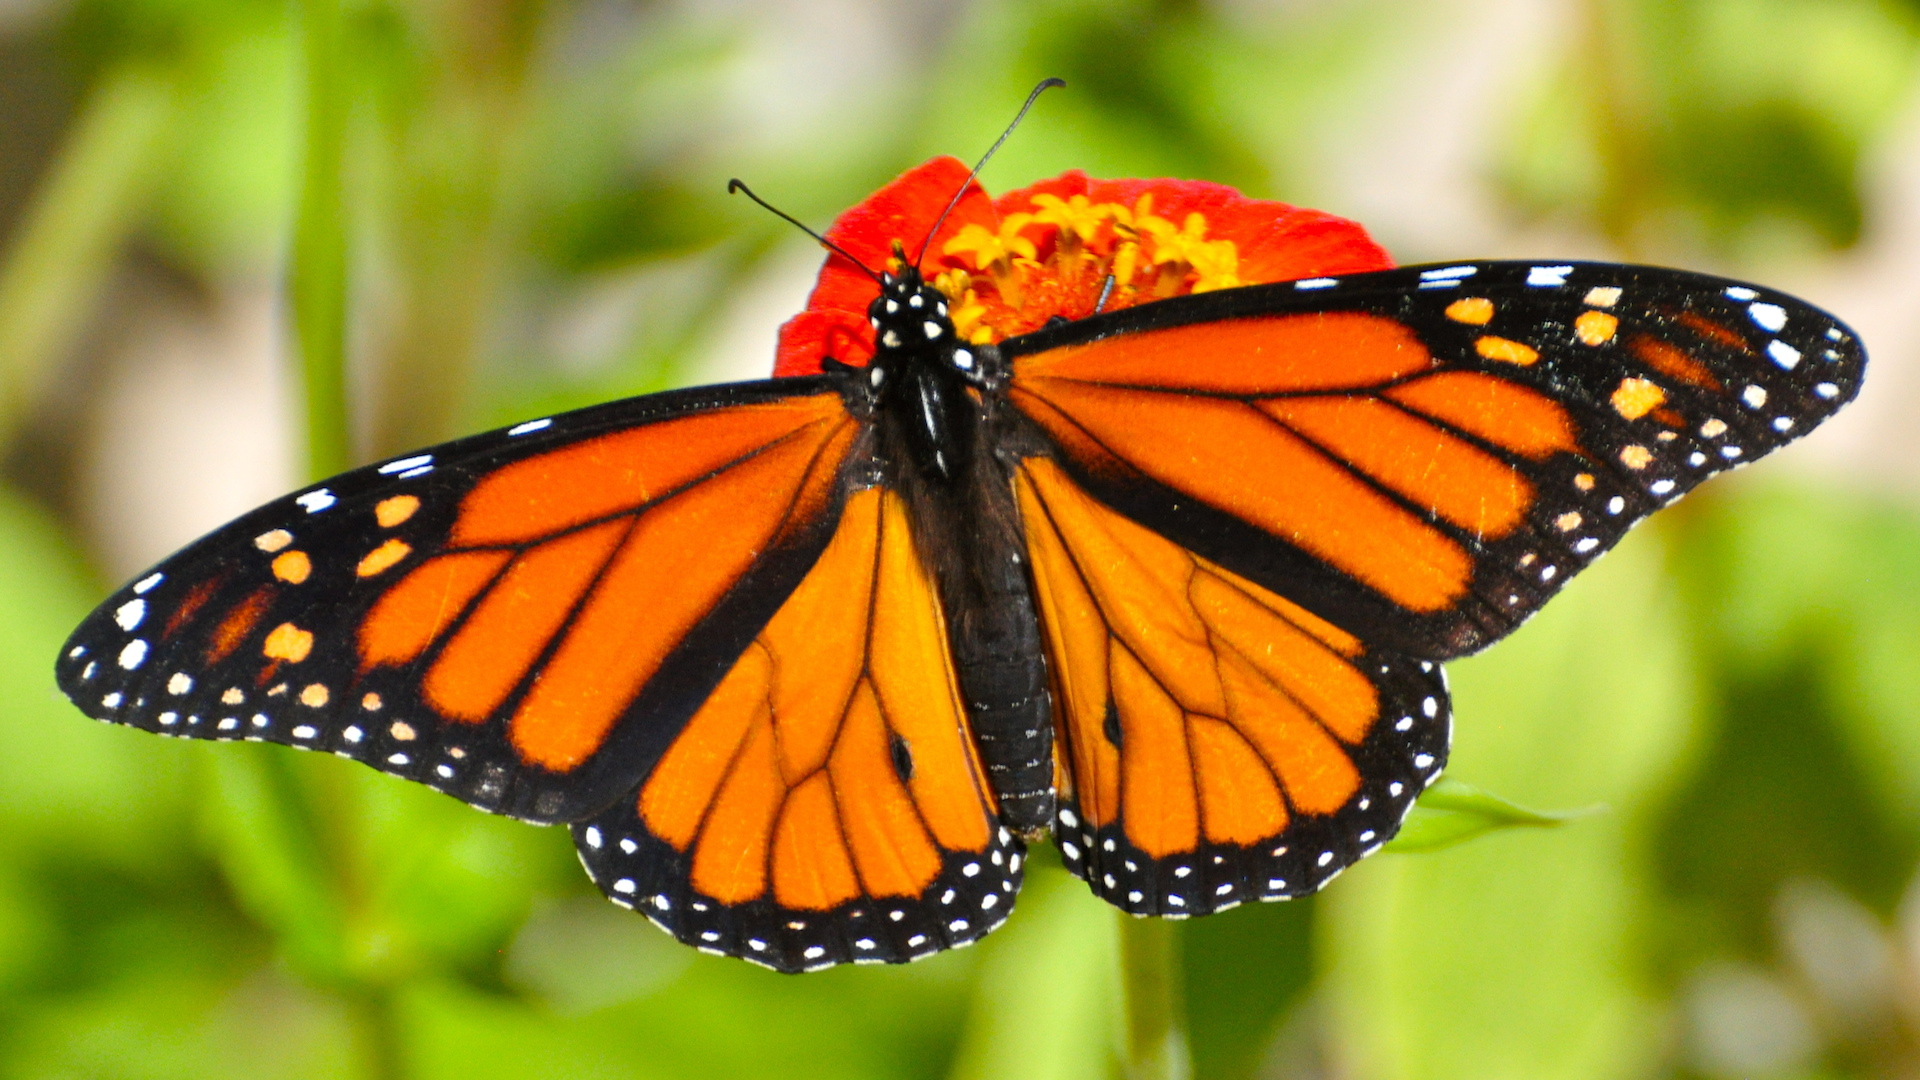Butterfly: (45, 88, 1869, 955)
